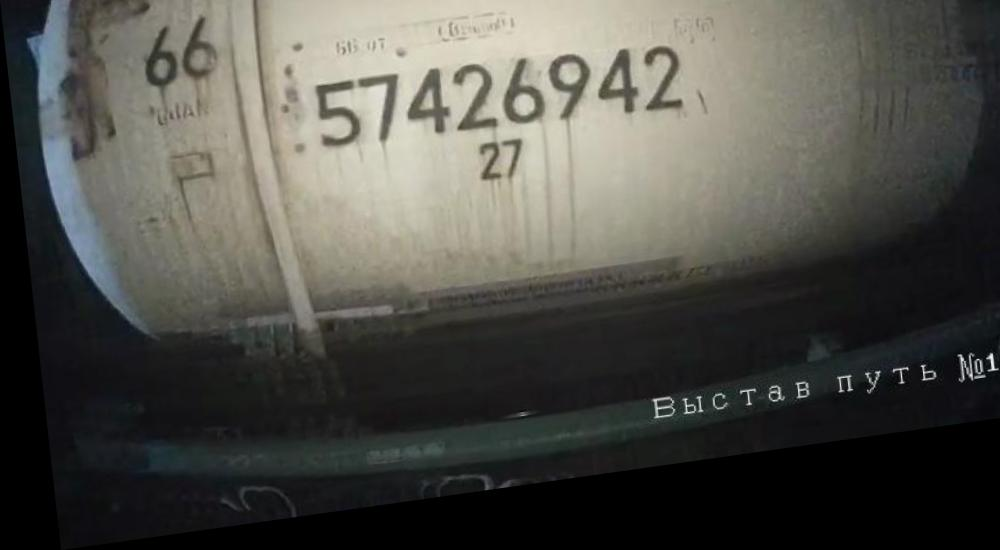Wagon-number: (305, 46, 687, 172)
